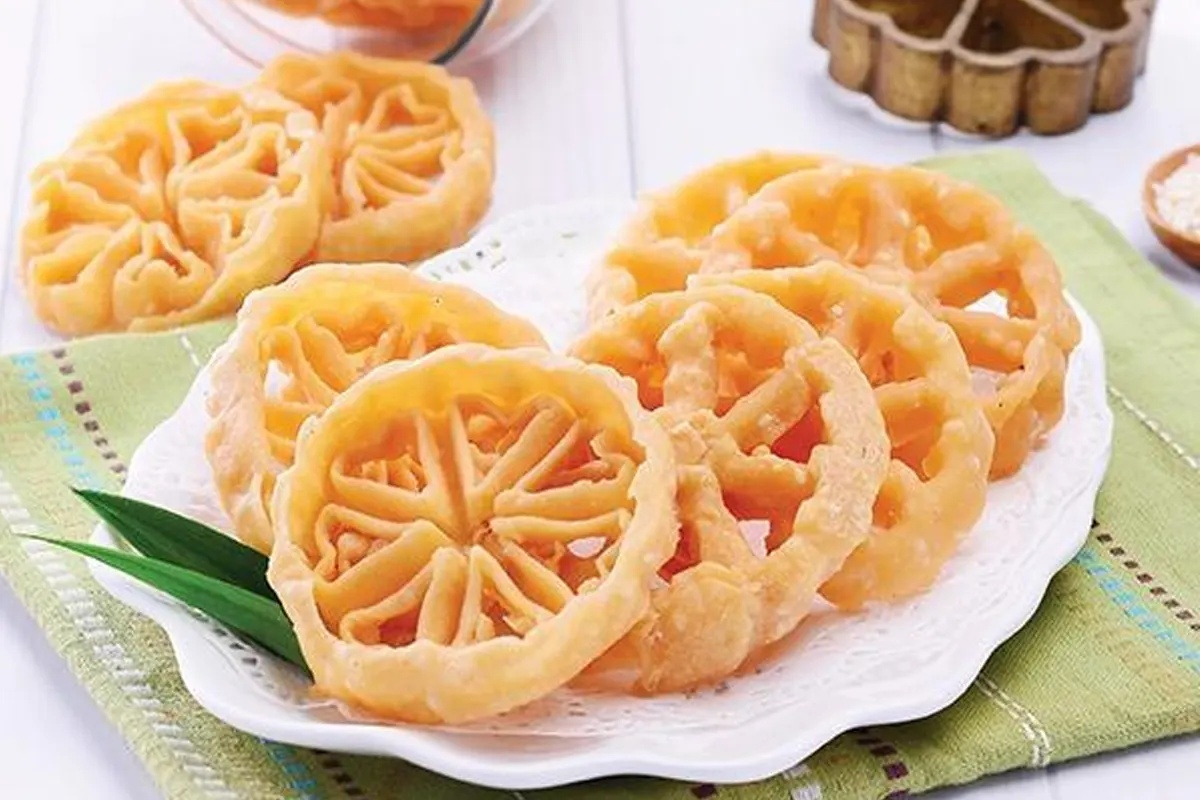kembang_goyang: (279, 311, 672, 728)
